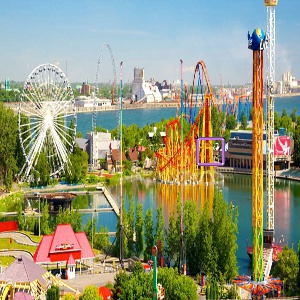square: (196, 135, 225, 168)
